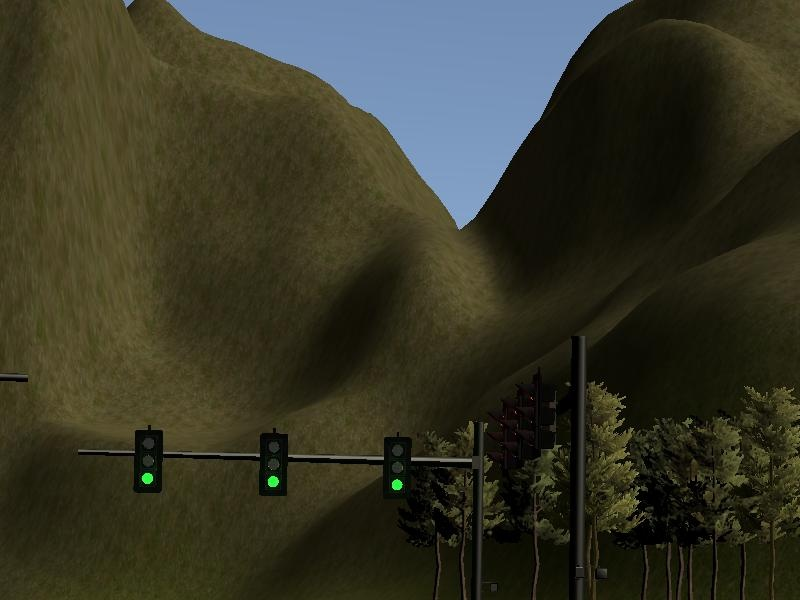traffic_light_green: (74, 425, 442, 502)
